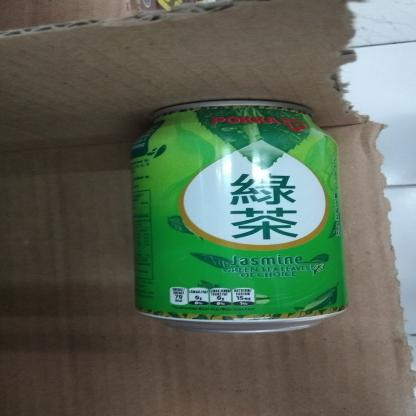bottle: (122, 96, 356, 335)
